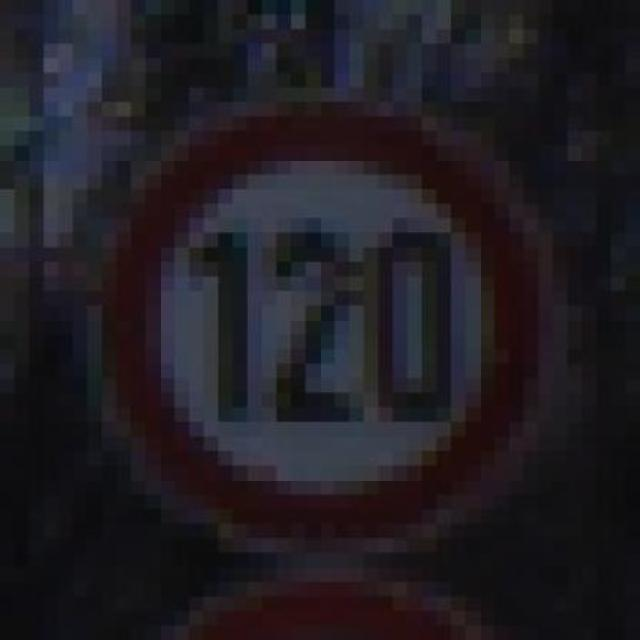forb_speed_over_120: (113, 102, 536, 547)
